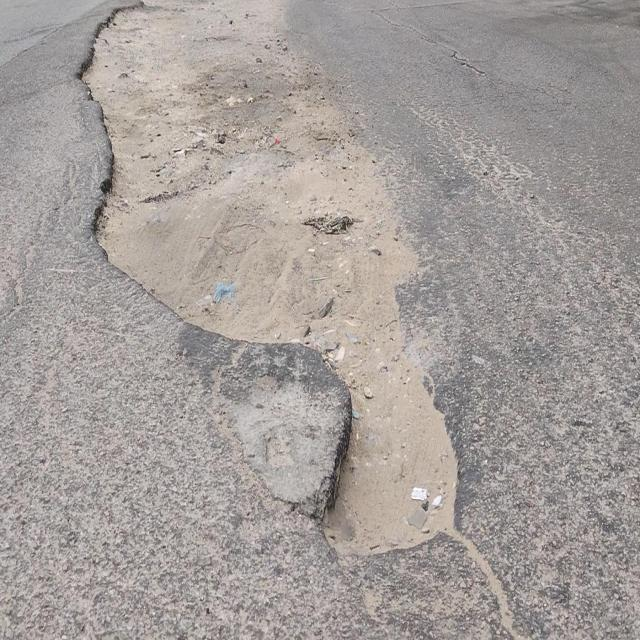Potholes: (315, 362, 463, 562), (89, 151, 179, 284), (74, 38, 131, 111), (107, 3, 147, 40)
